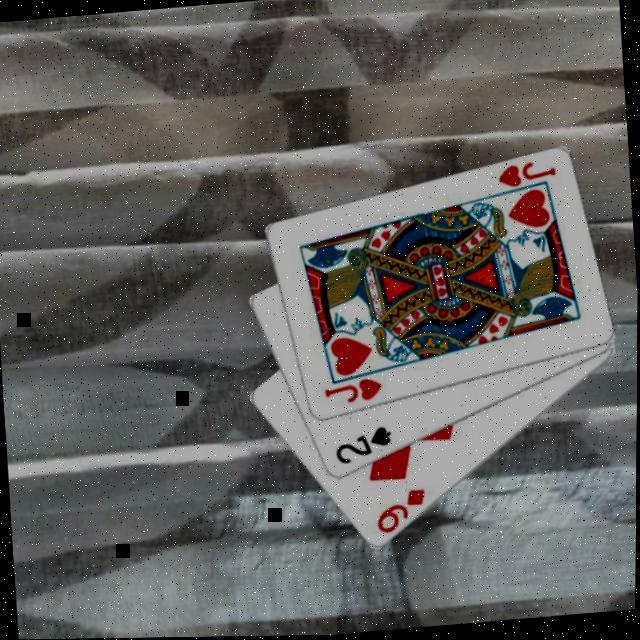2S: (332, 422, 396, 468)
9D: (373, 484, 431, 538)
JH: (321, 374, 386, 408), (496, 158, 560, 191)
